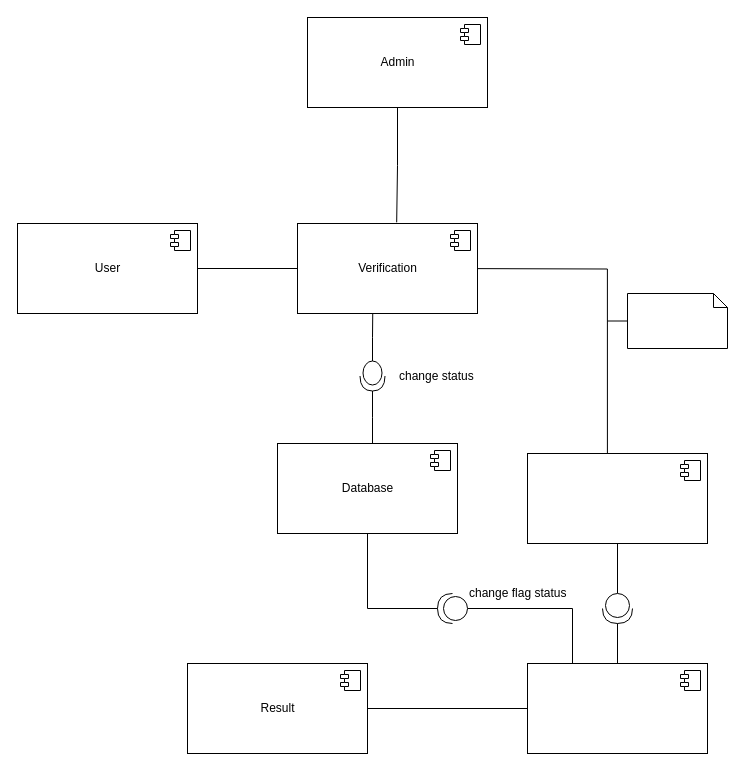
The diagram is 745 pixels wide and 771 high, and some of its shapes have lost their labels. Here are the shapes that lost their labels. From the top down, the centre of each, then its label:
At (x=677, y=320): "if user is verfied".
At (x=617, y=498): "Voting".
At (x=617, y=708): "Transaction".
